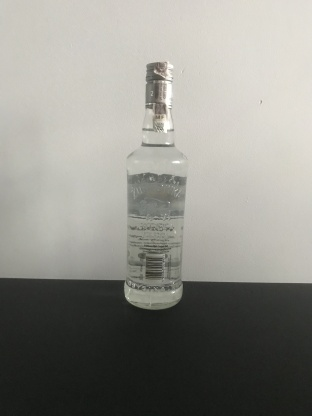nakretka: (143, 59, 174, 110)
